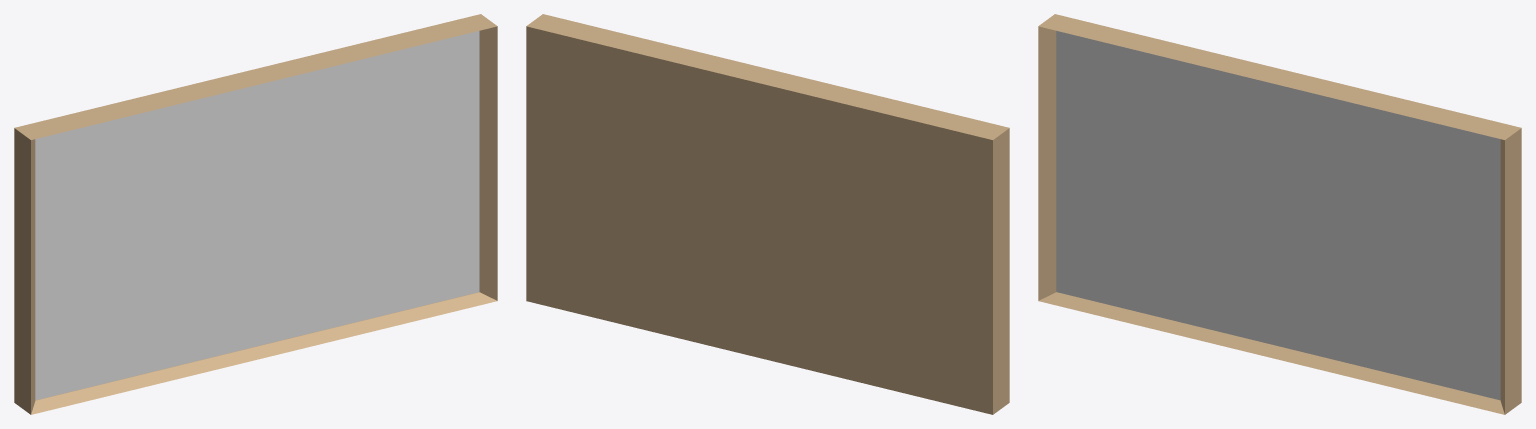
The model's file is PachyFrame.fbx.
The picture shows the model from 3 angles, left to right: view 1: azimuth 30°, elevation 25°; view 2: azimuth 150°, elevation 25°; view 3: azimuth 330°, elevation 25°; orthographic projection.
Parts seen in each view (by area): view 1: Cube; view 2: Cube; view 3: Cube.
Boxes of the visible parts, x1,y1,x2,y2 form: Cube: (14, 14, 497, 414); Cube: (526, 14, 1009, 414); Cube: (1038, 14, 1521, 414).
Size of the model in its own units: 160 by 90 by 10.
